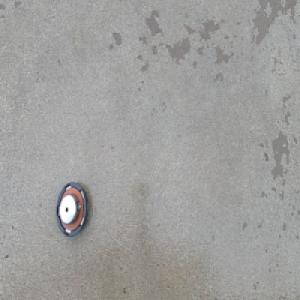FuelCap: (55, 180, 88, 241)
